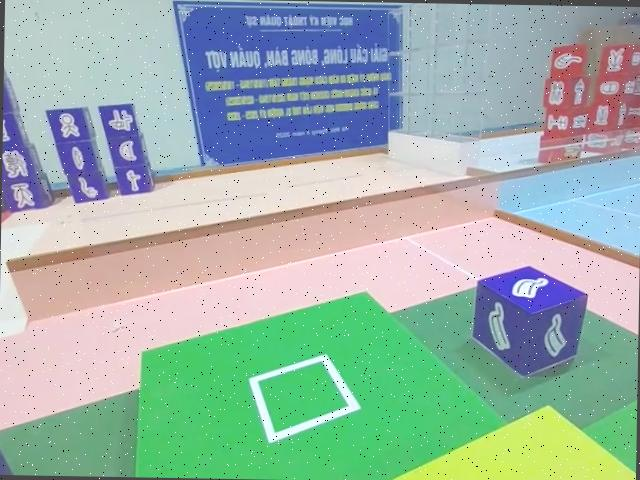R2 Real Blue: (469, 266, 588, 382)
